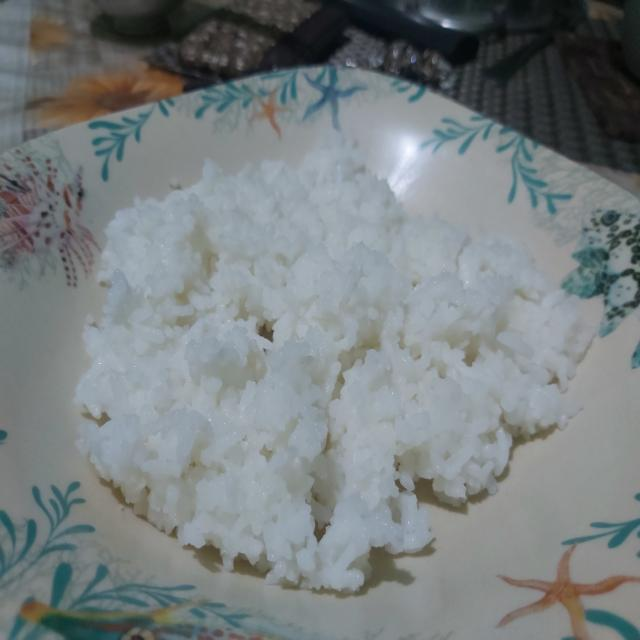Chicken -Chicken Inasal-: (81, 144, 568, 579)
